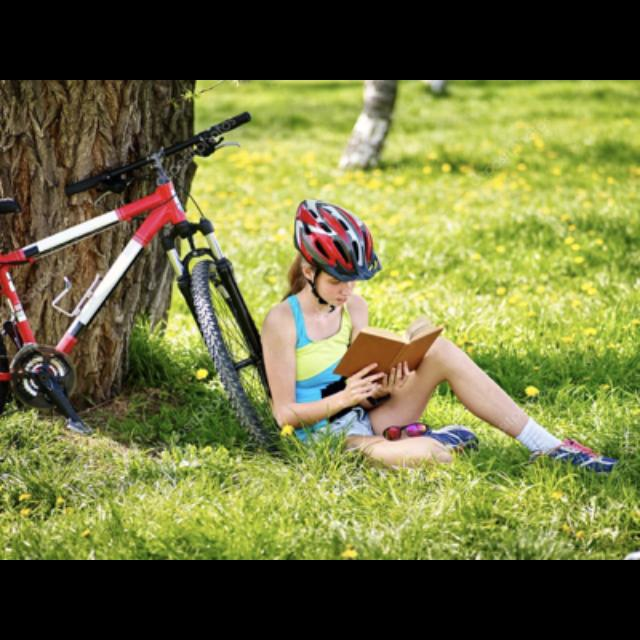With Helmet: (288, 194, 386, 310)
